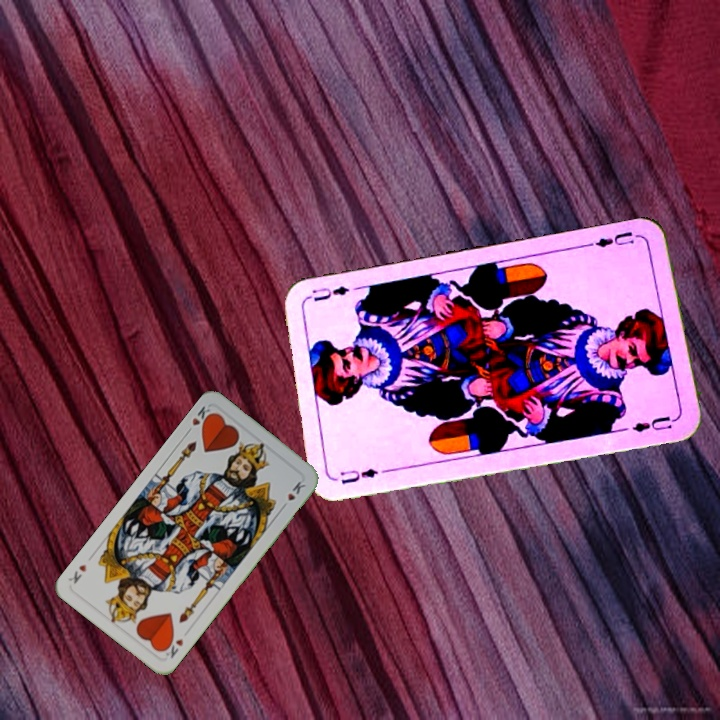EU: (588, 227, 636, 251), (336, 464, 381, 487)
HK: (182, 402, 216, 437), (159, 632, 186, 661)
